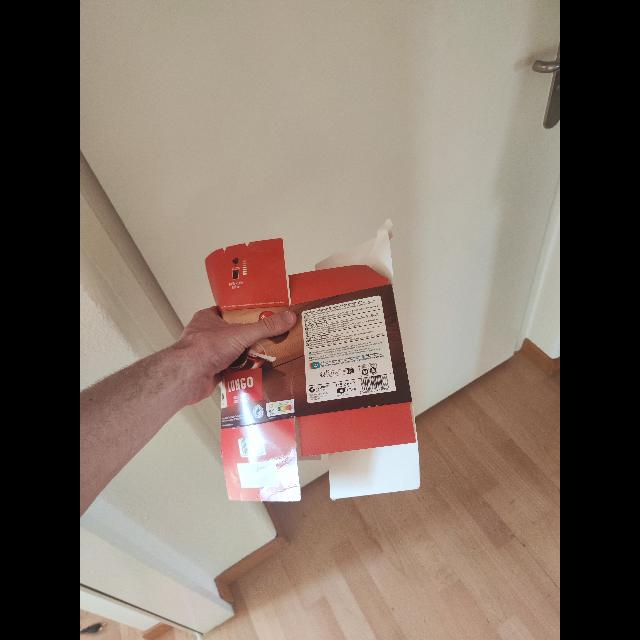Cardboard: (202, 218, 422, 498)
